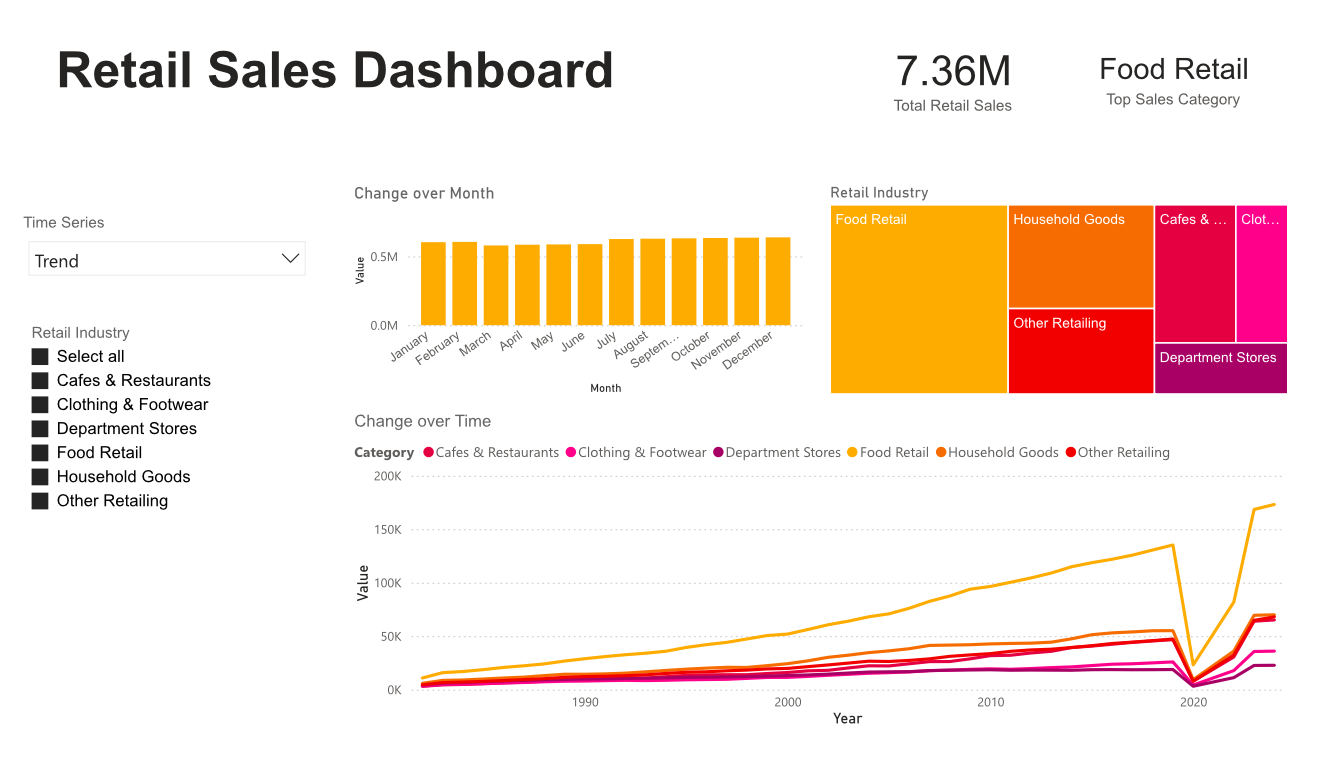

What the dashboard file says about the page in this screenshot:
{"tool":"powerbi","page":{"name":"Page 1","canvas":[1280,720],"ordinal":0},"visuals":[{"type":"slicer","title":"Time Series","fields":{"Values":["Data1.Data Type"]},"box":[19.4,204.8,285.3,83.3],"z":0},{"type":"card","fields":{"Values":["Data1.Total Retail Sales"]},"box":[832.5,8.9,161.9,130],"z":1000},{"type":"card","fields":{"Values":["Data1.Top Sales Category"]},"box":[1022.5,8.9,202.7,130],"z":2000},{"type":"lineChart","title":"Change over Time","fields":{"Category":["Data1.Date.Variation.Date Hierarchy.Year","Data1.Date.Variation.Date Hierarchy.Quarter","Data1.Date.Variation.Date Hierarchy.Month","Data1.Date.Variation.Date Hierarchy.Day"],"Series":["Data1.Category"],"Y":["Sum(Data1.Value)"]},"box":[335.5,394.2,902.6,305.8],"z":3000},{"type":"treemap","title":"Retail Industry","fields":{"Group":["Data1.Category"],"Values":["Sum(Data1.Value)"]},"box":[790.4,177.8,447.5,204],"z":4000},{"type":"lineStackedColumnComboChart","title":"Change over Month","fields":{"Category":["Data1.Date.Variation.Date Hierarchy.Month"],"Y":["Sum(Data1.Value)"]},"box":[335.5,178,439.3,204.2],"z":5000},{"type":"slicer","fields":{"Values":["Data1.Category"]},"box":[19.4,305.2,285.3,213.4],"z":6000},{"type":"textbox","box":[51,34.4,589,79],"z":7000}]}

Visuals, with their boxes on the page's 1280x720 design canvas (x1, y1, x2, y2). These are canvas units, not pixel positions in the 1331x774 screenshot, which may show the page scaled, cropped or inside an application window:
"Time Series" slicer: select_region(19, 205, 305, 288)
card - Data1.Total Retail Sales: select_region(832, 9, 994, 139)
card - Data1.Top Sales Category: select_region(1022, 9, 1225, 139)
"Change over Time" lineChart: select_region(336, 394, 1238, 700)
"Retail Industry" treemap: select_region(790, 178, 1238, 382)
"Change over Month" lineStackedColumnComboChart: select_region(336, 178, 775, 382)
slicer - Data1.Category: select_region(19, 305, 305, 519)
textbox: select_region(51, 34, 640, 113)
